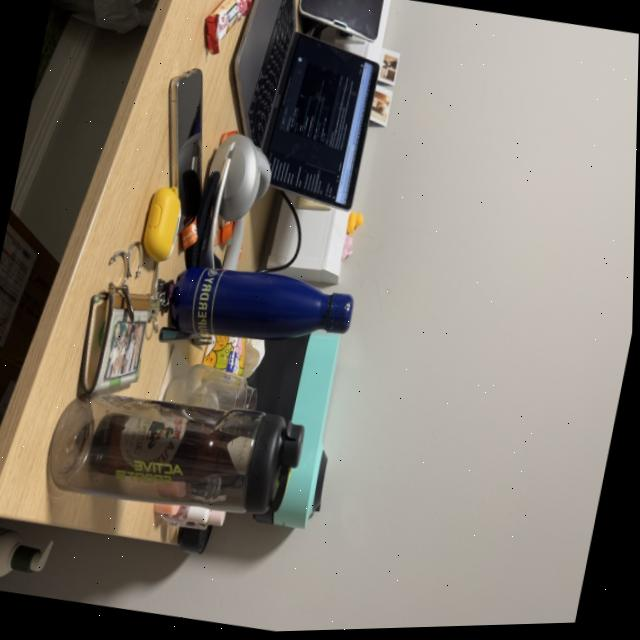beer: (83, 401, 308, 505)
chocolate: (198, 0, 259, 62)
